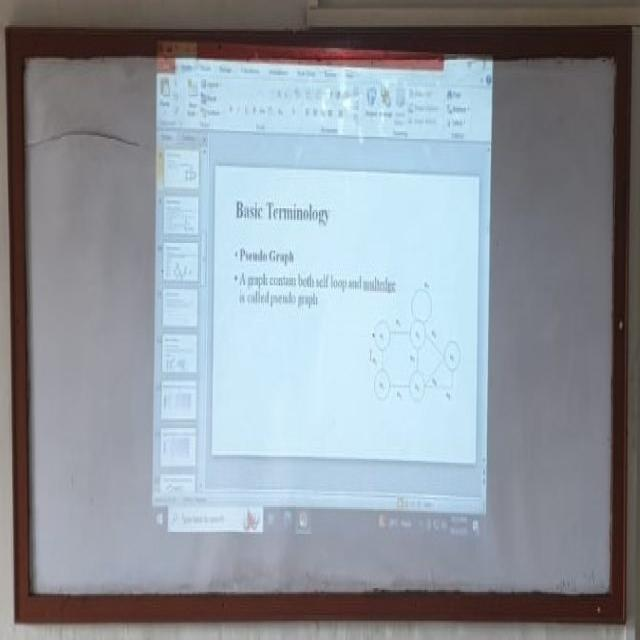Slide: (148, 40, 492, 547)
White-board: (17, 36, 624, 612)
